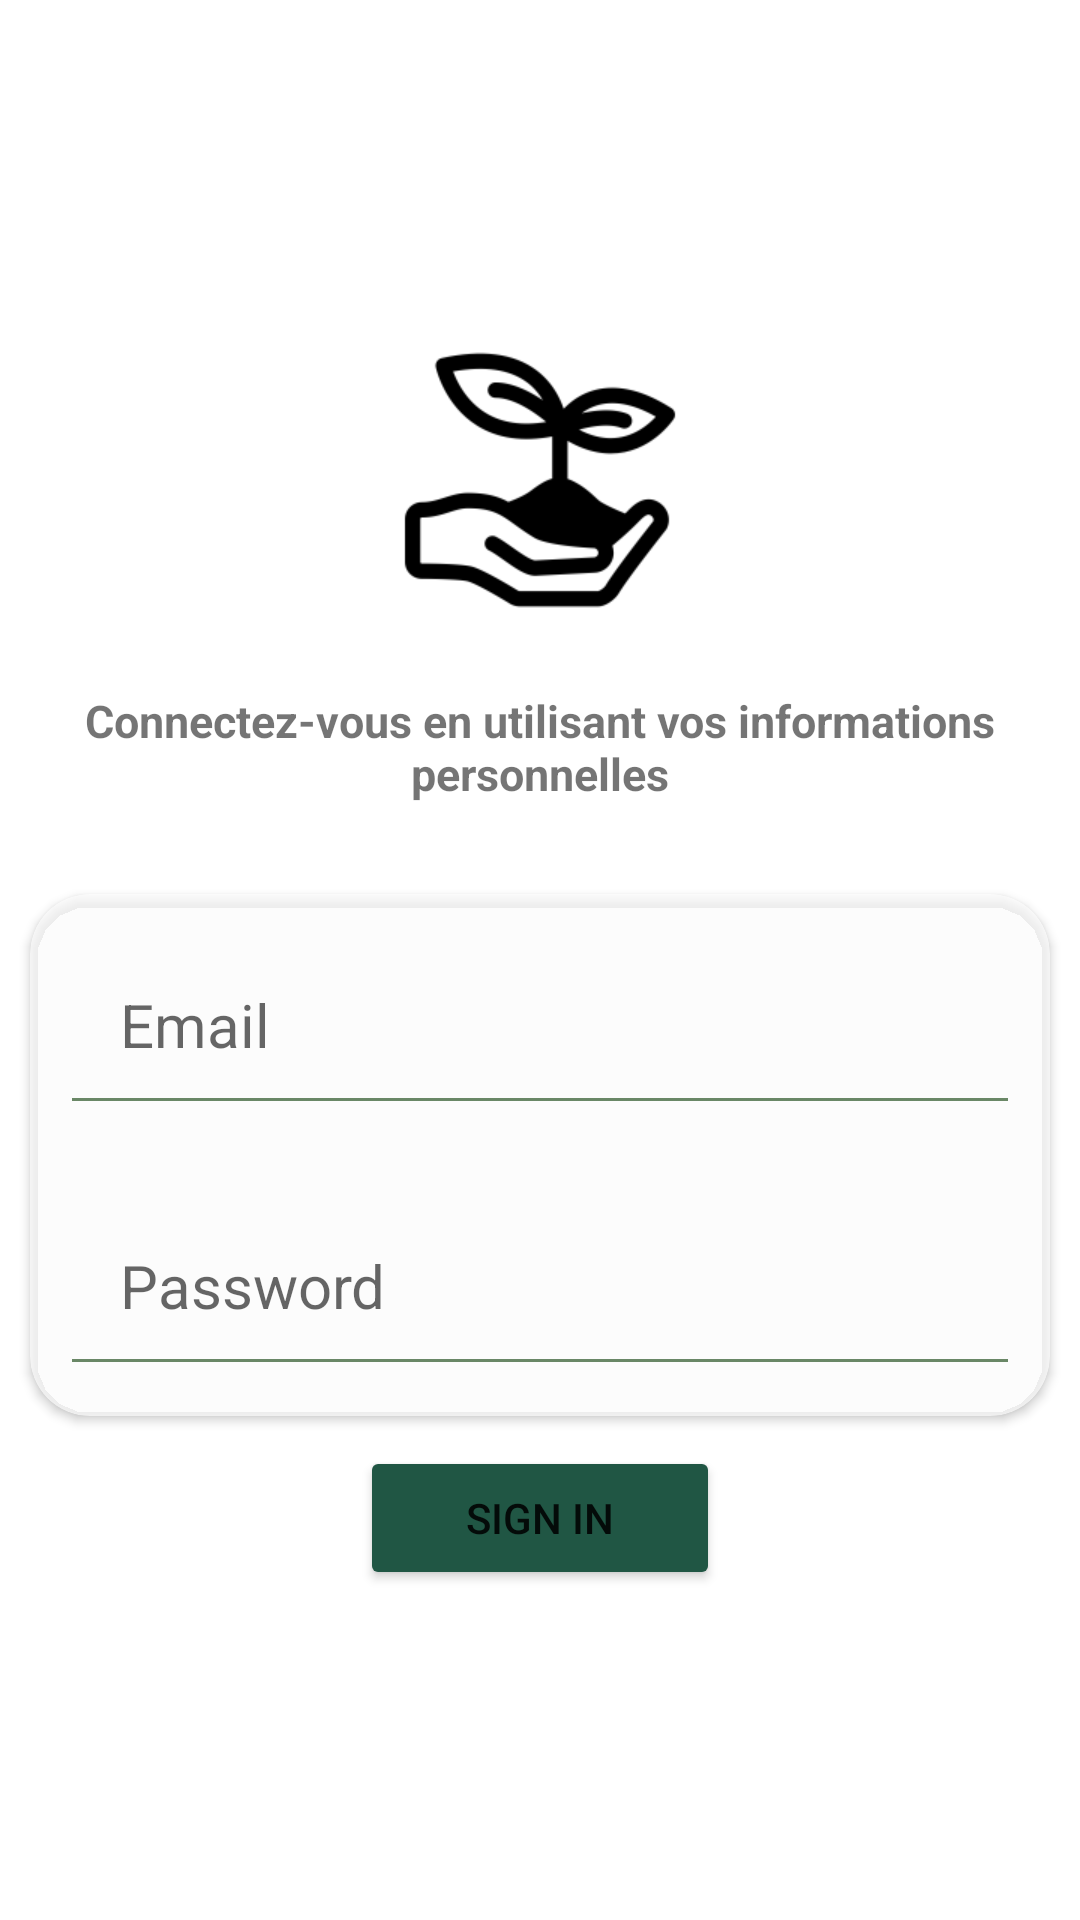

Icons on this 1080px×1920px Android screen, each with its box as {"left": x1, "top": y1, "right": x2, "bottom": y2}:
plant login: {"left": 404, "top": 352, "right": 676, "bottom": 608}
